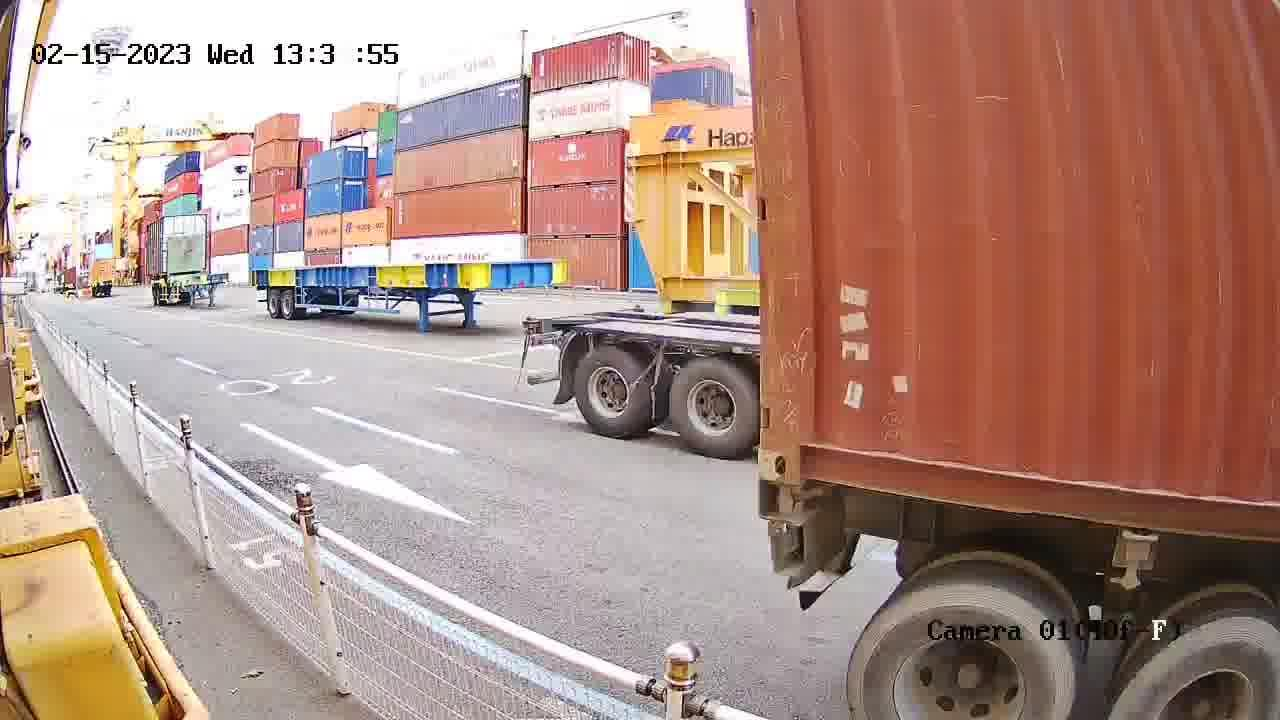Cone: (759, 485, 800, 528)
Hole_L: (756, 396, 851, 484)
Tire: (844, 588, 1082, 719), (1111, 619, 1279, 719)
